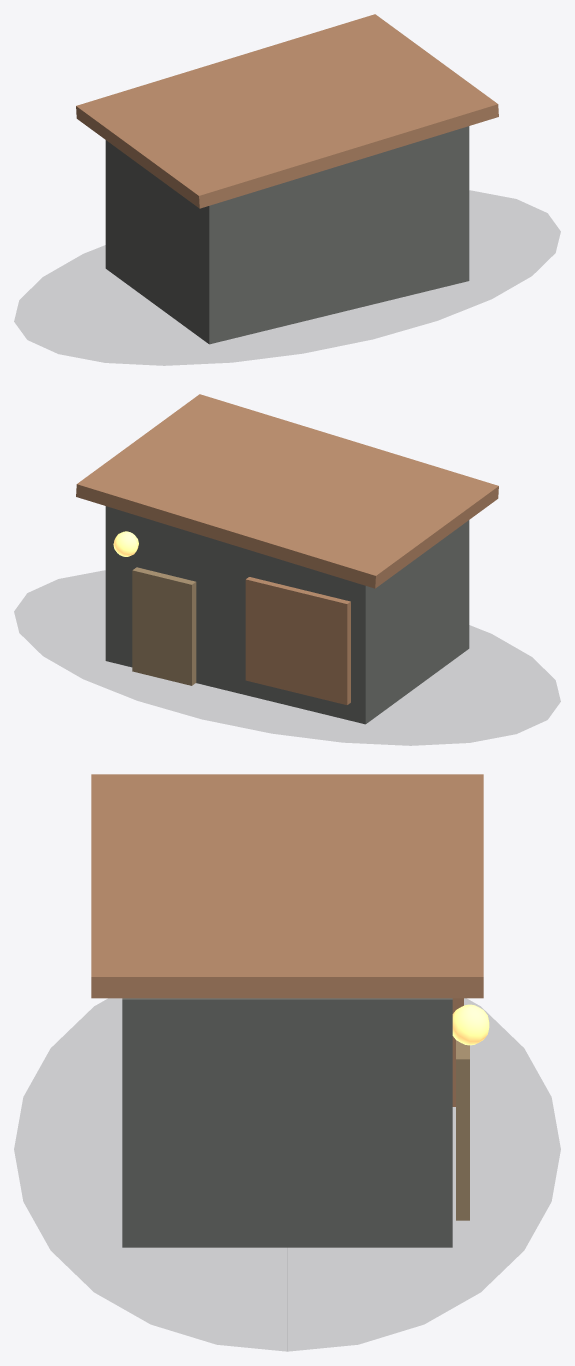
File: bunkhouse_shack.glb
The picture shows the model from 3 angles, top to bottom: view 1: azimuth 30°, elevation 25°; view 2: azimuth 150°, elevation 25°; view 3: azimuth 270°, elevation 25°; orthographic projection. The views are drawn at different scales.
Parts seen in each view (by area): view 1: bunkhouse_body, roof, baked_contact_shadow; view 2: roof, bunkhouse_body, baked_contact_shadow, patched_wall, door, porch_lamp; view 3: roof, bunkhouse_body, baked_contact_shadow, door, porch_lamp.
Part boxes in pixels (x1,y1,x2,y2): bunkhouse_body: (105, 126, 469, 344); roof: (76, 14, 498, 208); baked_contact_shadow: (14, 191, 560, 365); roof: (76, 394, 498, 588); bunkhouse_body: (105, 506, 469, 724); baked_contact_shadow: (14, 571, 560, 745); patched_wall: (245, 577, 350, 704); door: (132, 567, 196, 685); porch_lamp: (113, 531, 138, 556); roof: (91, 774, 483, 998); bunkhouse_body: (122, 998, 452, 1247); baked_contact_shadow: (14, 999, 560, 1351); door: (456, 1040, 469, 1220); porch_lamp: (452, 1004, 489, 1045).
Bounding box in the file's own units: 4.2 × 1.4 × 2.4.
